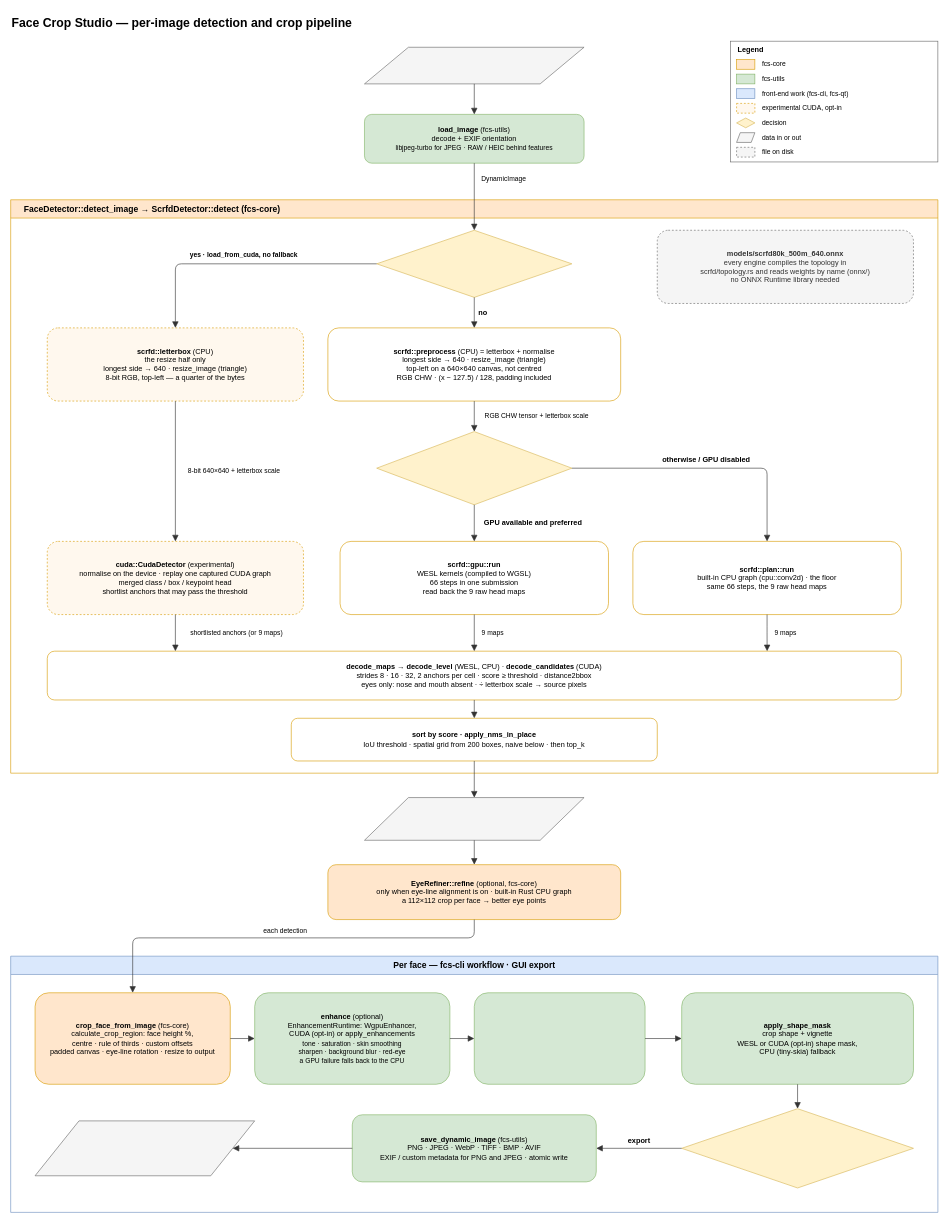
The diagram is 949 pixels wide and 1223 high, and some of its shapes have lost their labels. Here are the shapes that lost their labels. From the top down, the centre of each, then its label:
point 474,65: Source image JPEG · PNG · WebP · AVIF · RAW · HEIC
point 474,263: CUDA opted in at load? GPU enabled · NVIDIA · Windows / Linux
point 474,468: time both at load GPU keeps it unless the CPU graph is >25% faster
point 474,818: DetectionOutput per face: bbox · 2 eye landmarks · score
point 559,1038: estimate_sharpness Laplacian variance → Low · Medium · High
point 144,1148: Crop file named by pattern or mapping table
point 797,1148: quality filter skip low quality · auto-select best face
